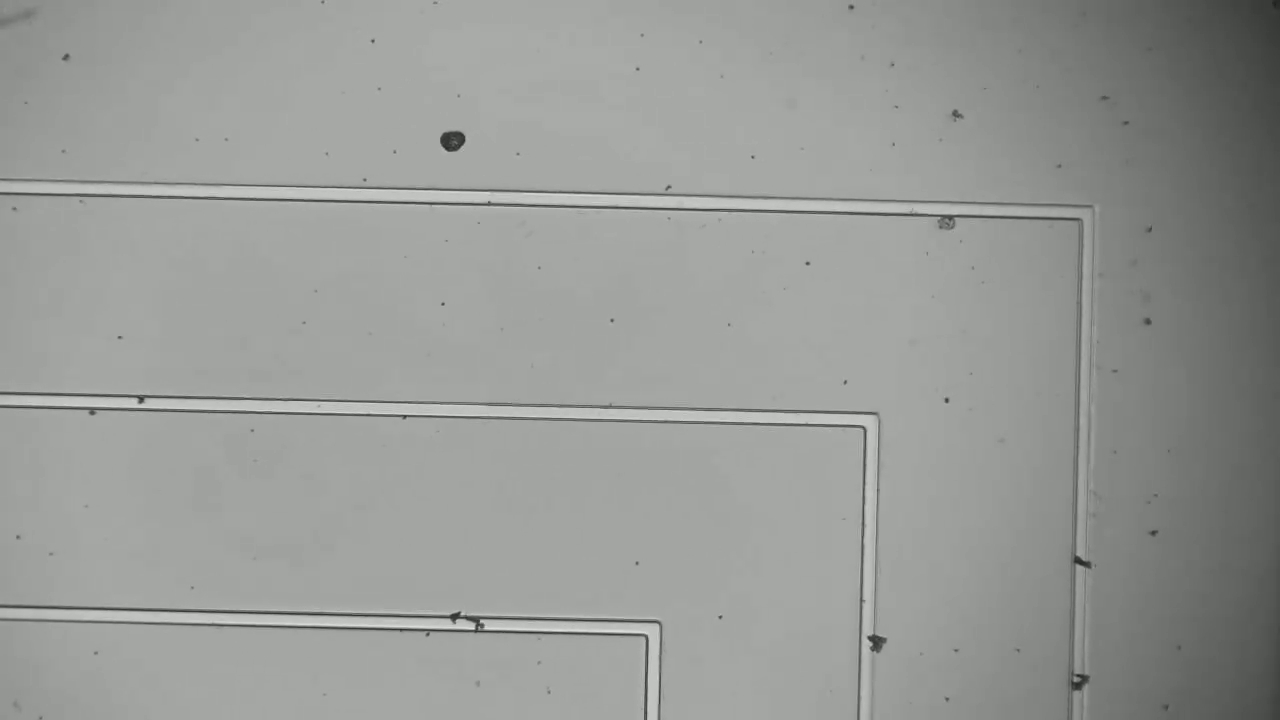stains_enbedded: (1068, 663, 1096, 697), (1069, 547, 1099, 577)
